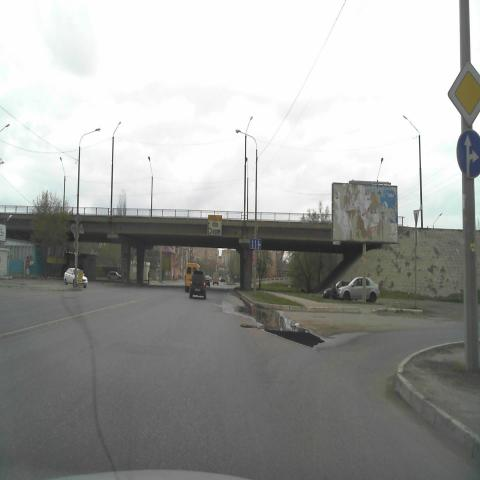4_1_4: (455, 128, 480, 181)
5_15_1: (250, 240, 262, 251)
